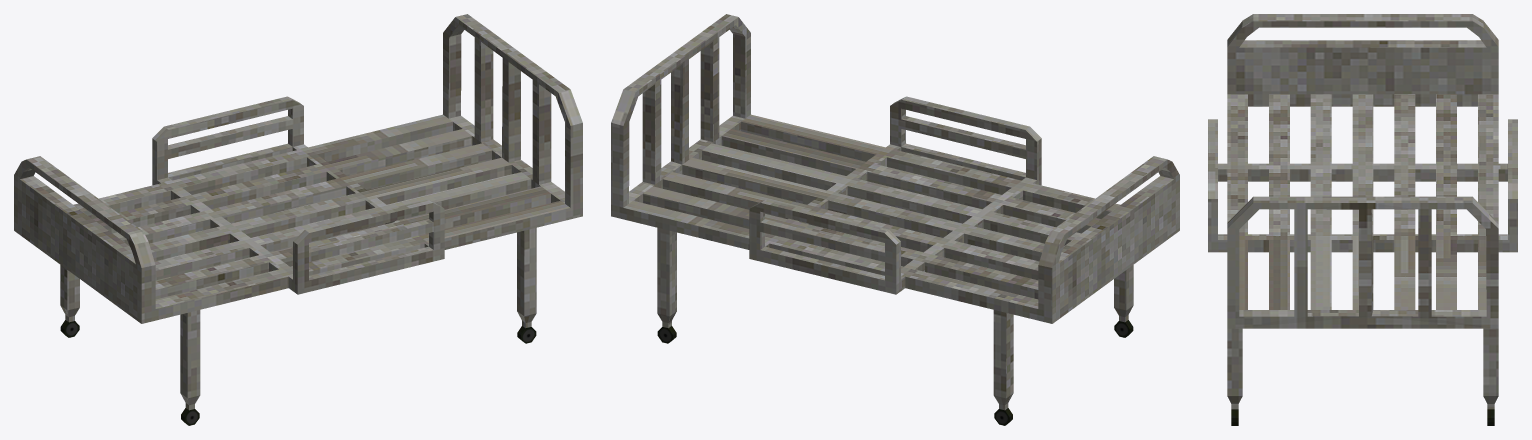
File: SM_Bedframe.fbx
3 views of the same model, side by side, from view 1: azimuth 30°, elevation 25°; view 2: azimuth 150°, elevation 25°; view 3: azimuth 270°, elevation 25° (orthographic). The views are drawn at different scales.
Visible parts, largest first — view 1: SM_Bedframe; view 2: SM_Bedframe; view 3: SM_Bedframe.
Part boxes in pixels (<box>): SM_Bedframe: <box>14,14,582,425</box>; SM_Bedframe: <box>611,14,1179,425</box>; SM_Bedframe: <box>1208,14,1517,425</box>.
Size of the model in its own units: 200 by 101 by 114.
